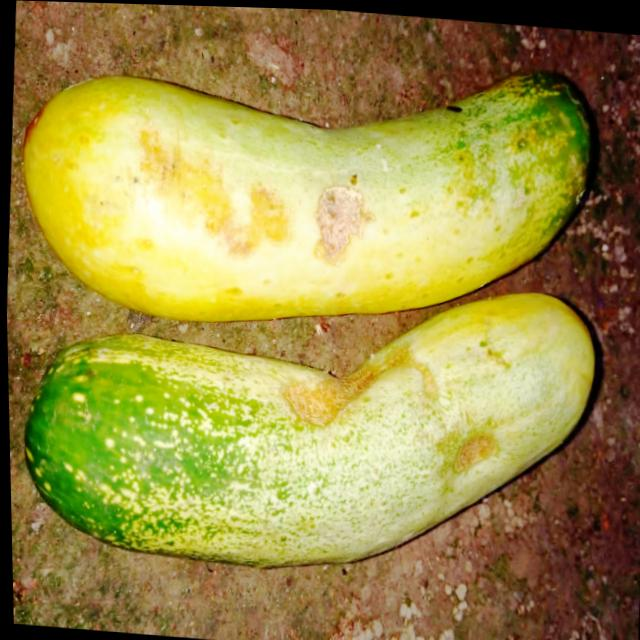Belly-Rot: (125, 113, 303, 269), (277, 311, 445, 447), (304, 170, 377, 272), (445, 412, 503, 488)
